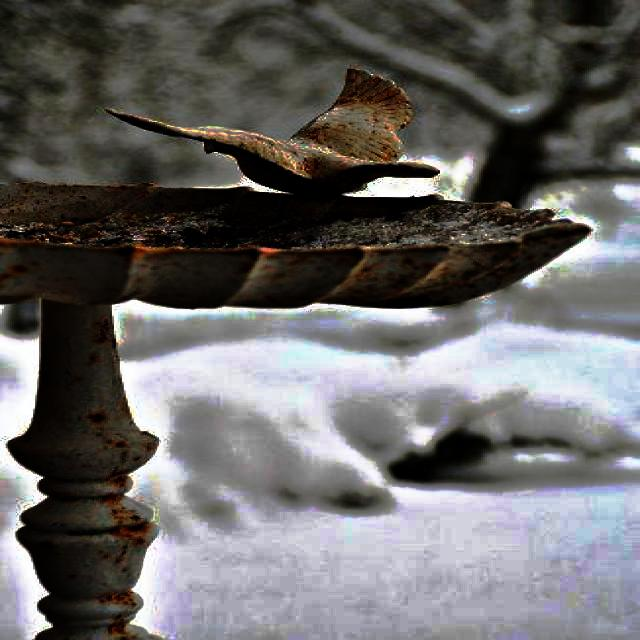Corrosion: (0, 67, 594, 640)
